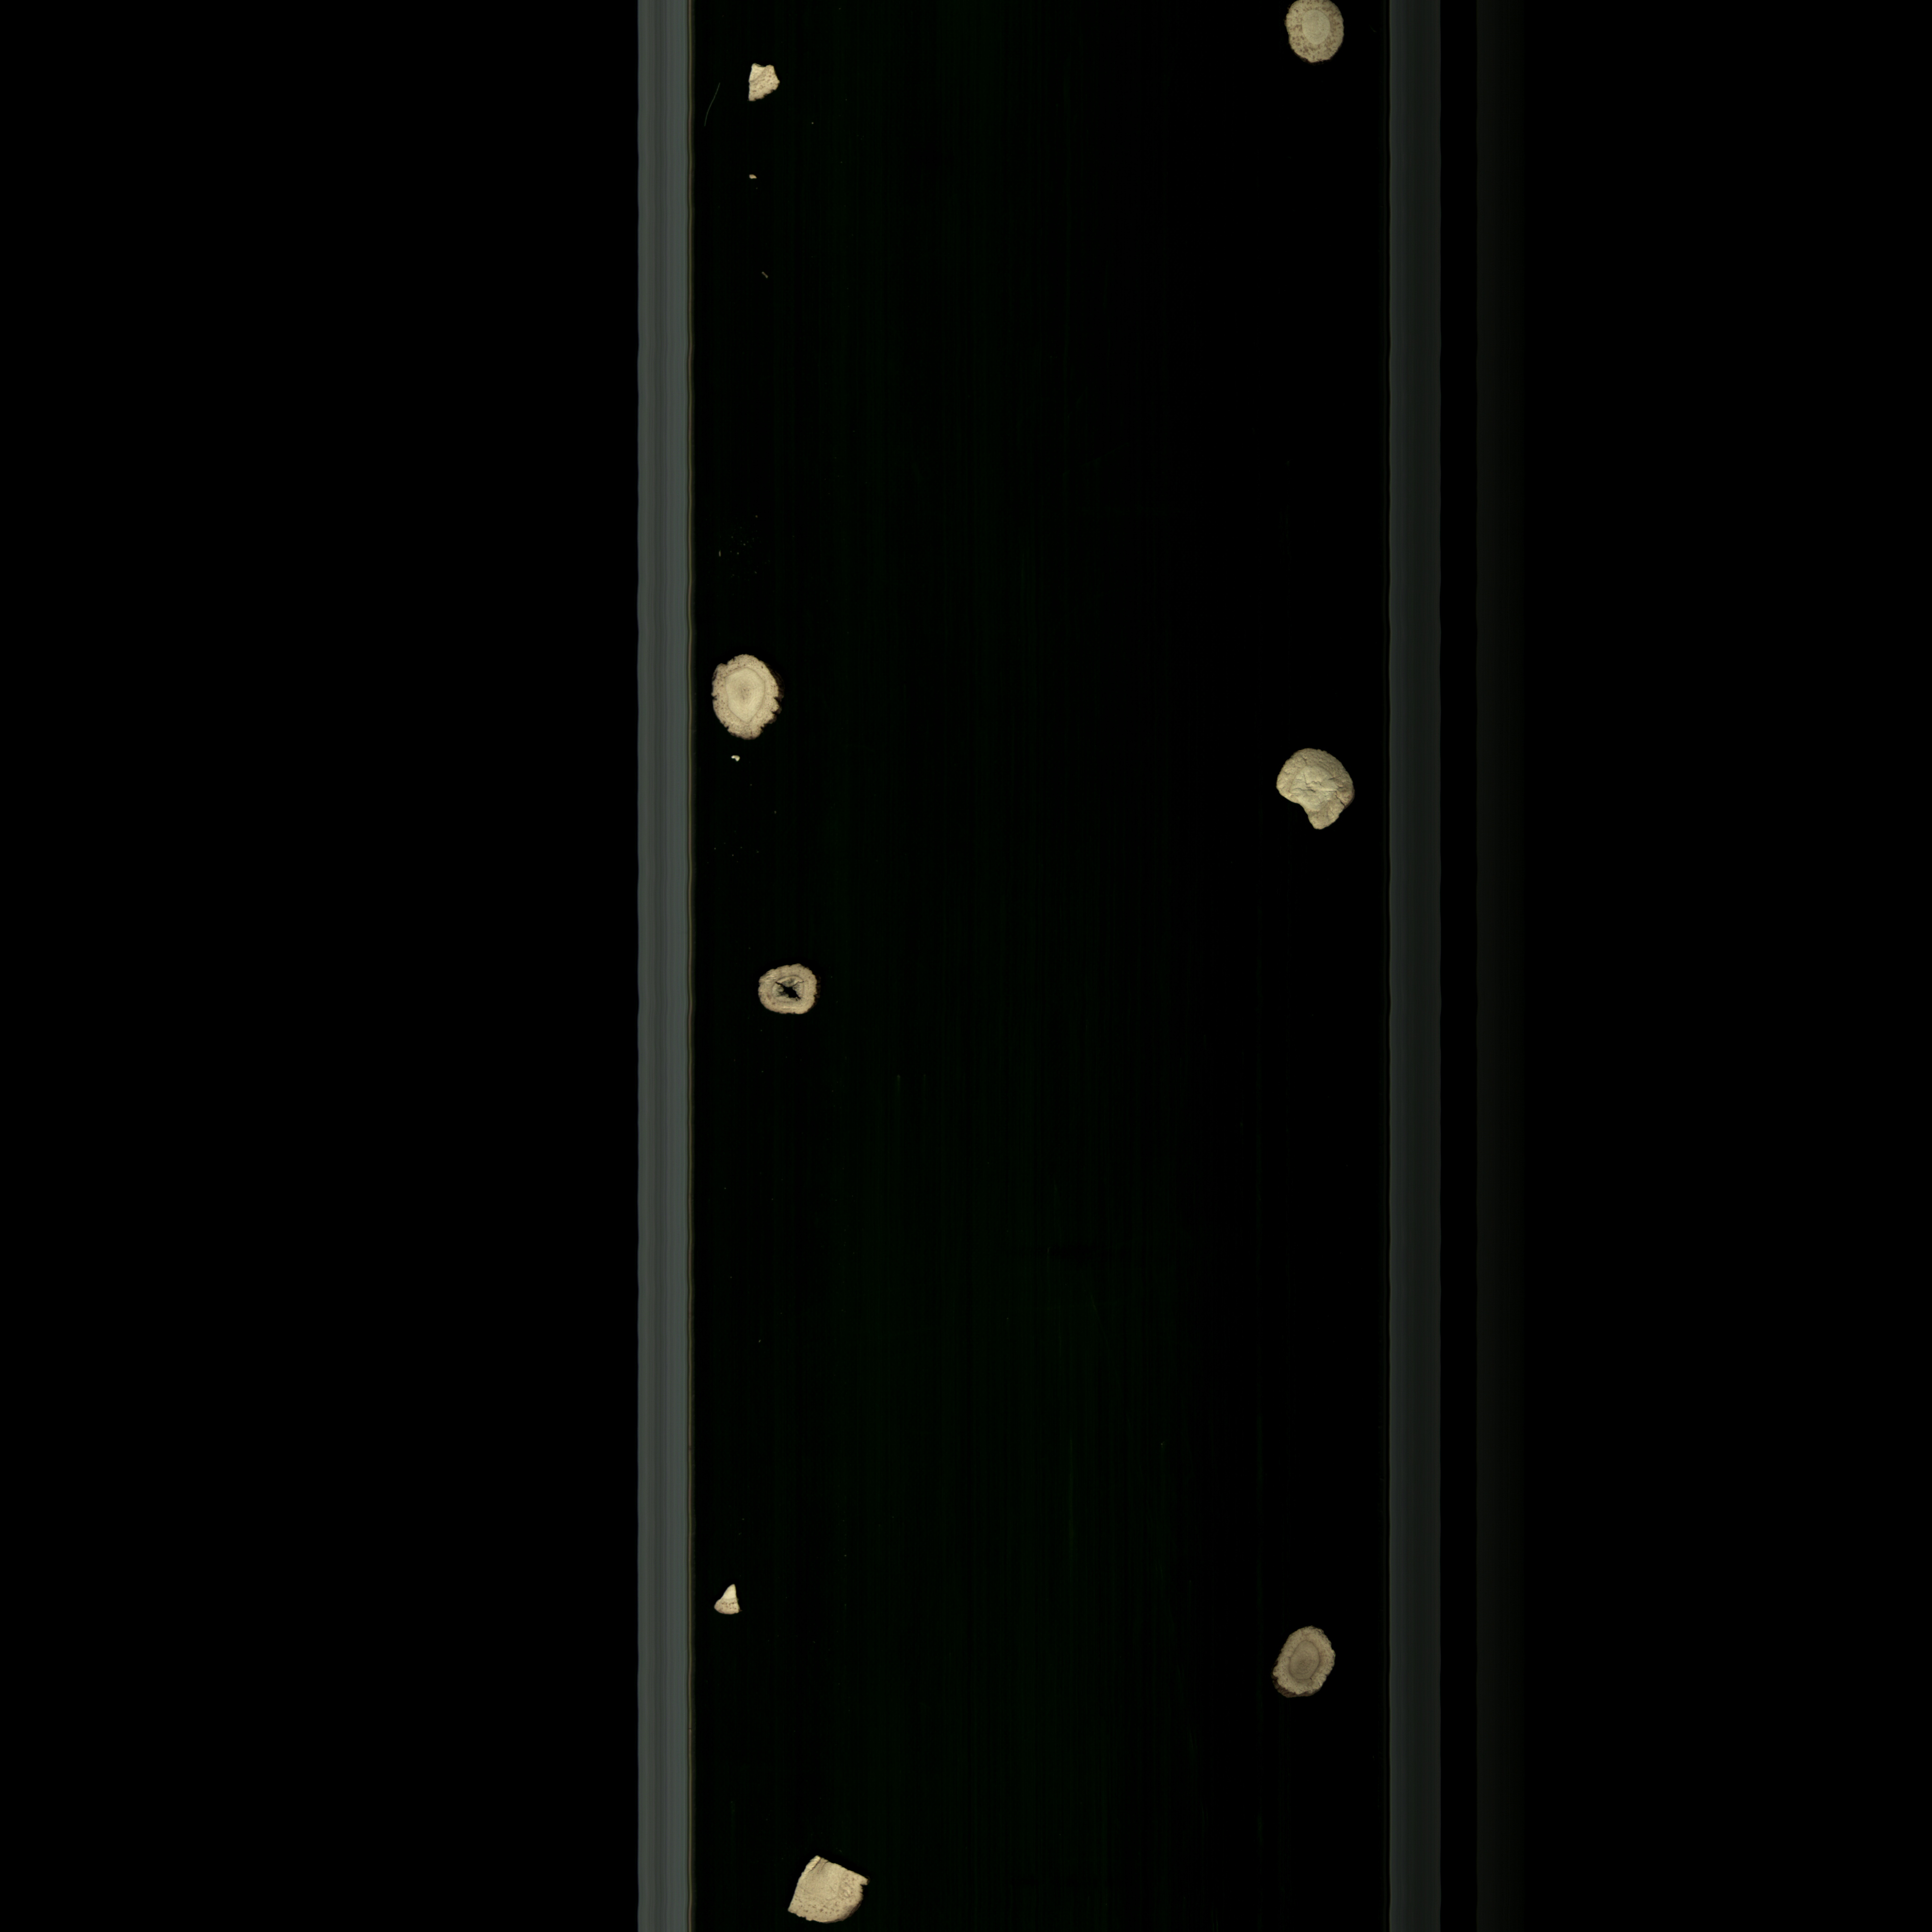debris: (1256, 740, 1366, 846), (770, 1845, 899, 1932)
dreg: (747, 60, 791, 115), (708, 1575, 747, 1626)
hole: (745, 948, 828, 1024)
moldy: (1269, 1619, 1345, 1714)
